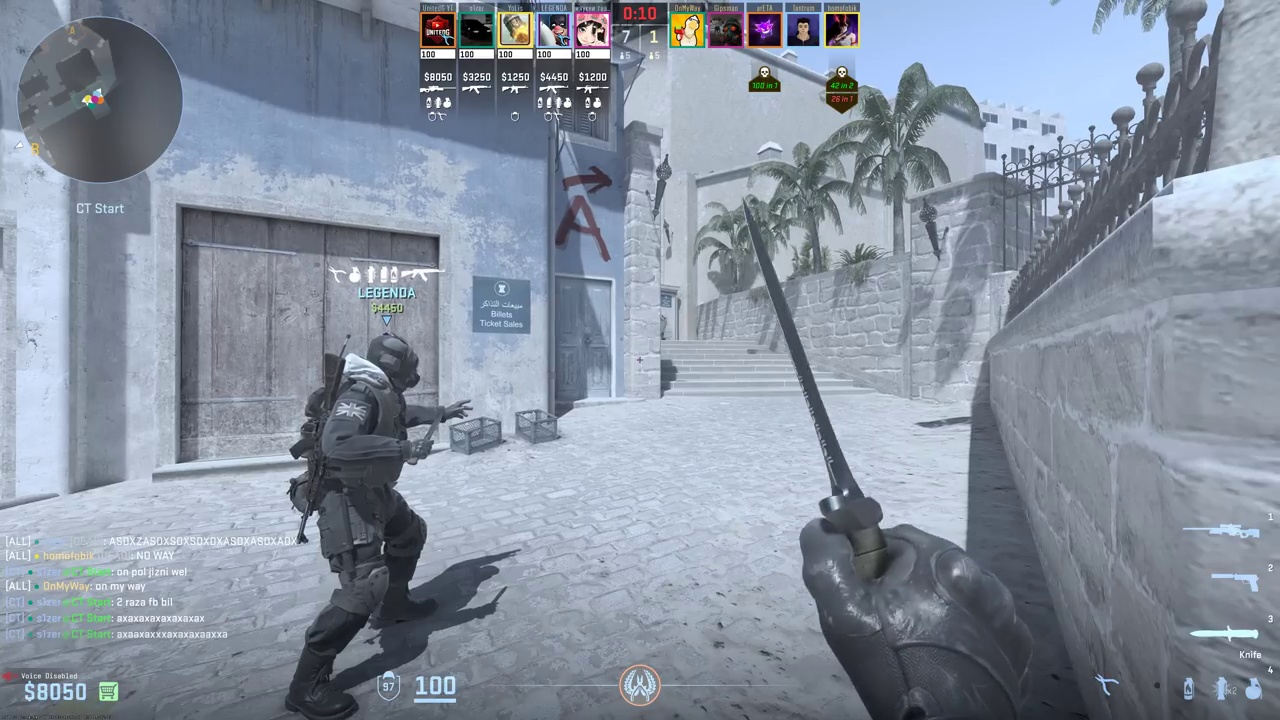CT: (290, 332, 442, 715)
